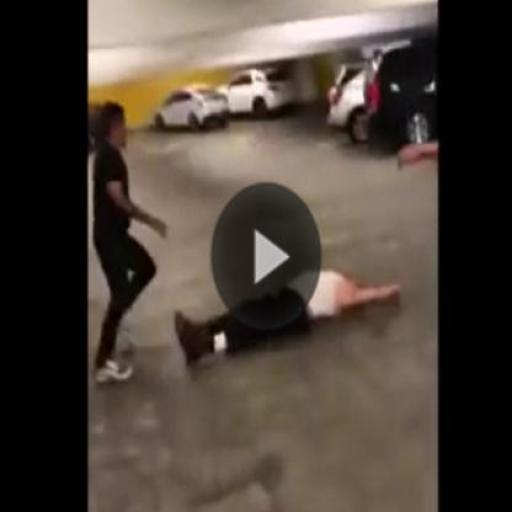Fighting: (88, 91, 402, 383)
